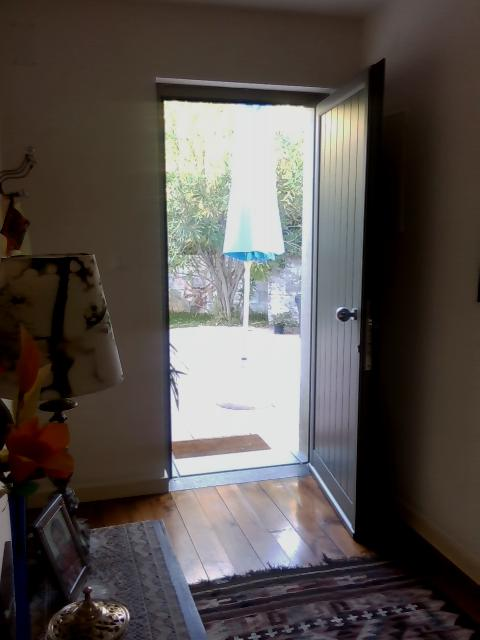open_door: (151, 80, 326, 475)
